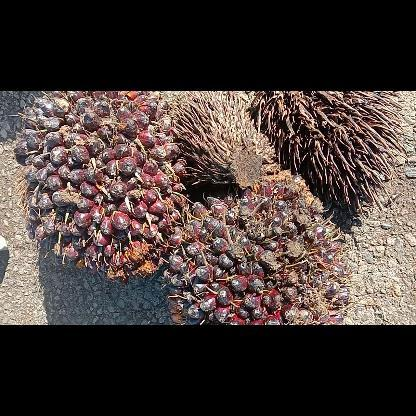Janjang kosong: (252, 91, 406, 216), (164, 90, 276, 188)
TBS mentah: (13, 90, 187, 280), (164, 179, 352, 323)
